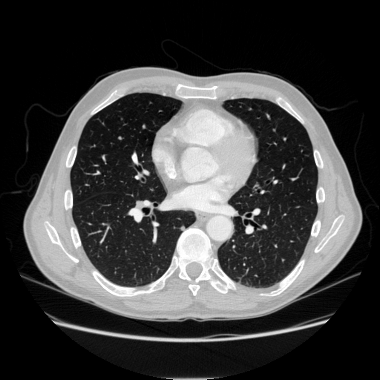nodule: (180, 226, 184, 230)
